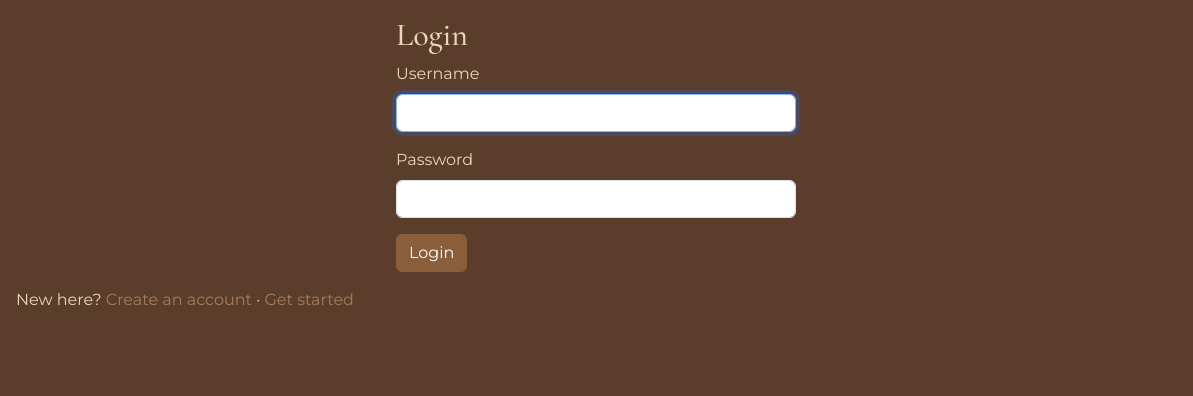
Test: Login › shows an error message on failed login
In the field labelled "Username": (596, 113) left=396, top=94, right=796, bottom=132, type "x"
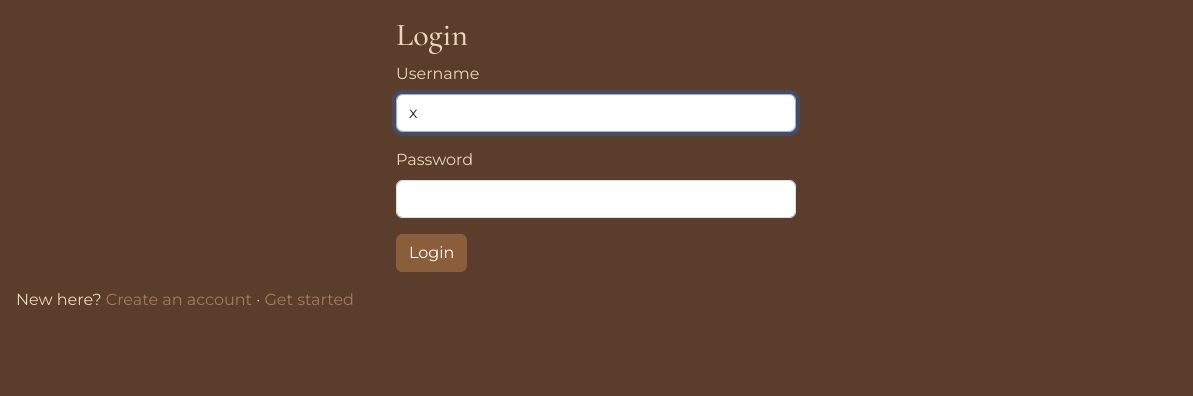
In the password field labelled "Password": (596, 199) left=396, top=180, right=796, bottom=218, type "bad"
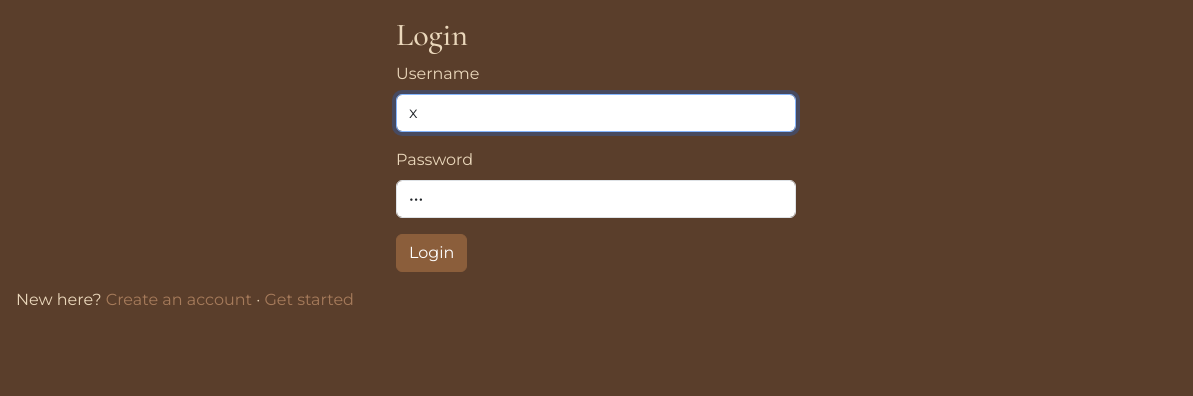
Click the button "Login": (432, 253) left=396, top=234, right=467, bottom=272
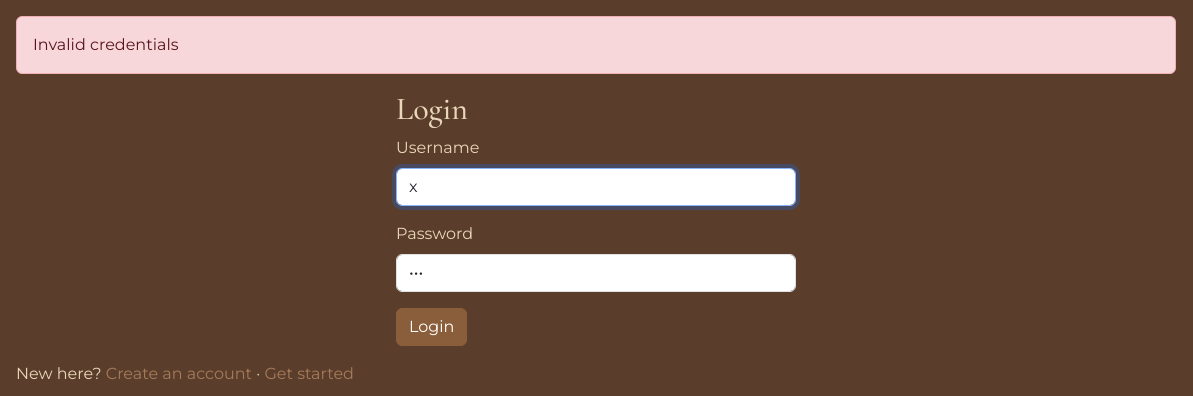
Result: the text "Invalid credentials" is shown at left=16, top=16, right=1176, bottom=74
